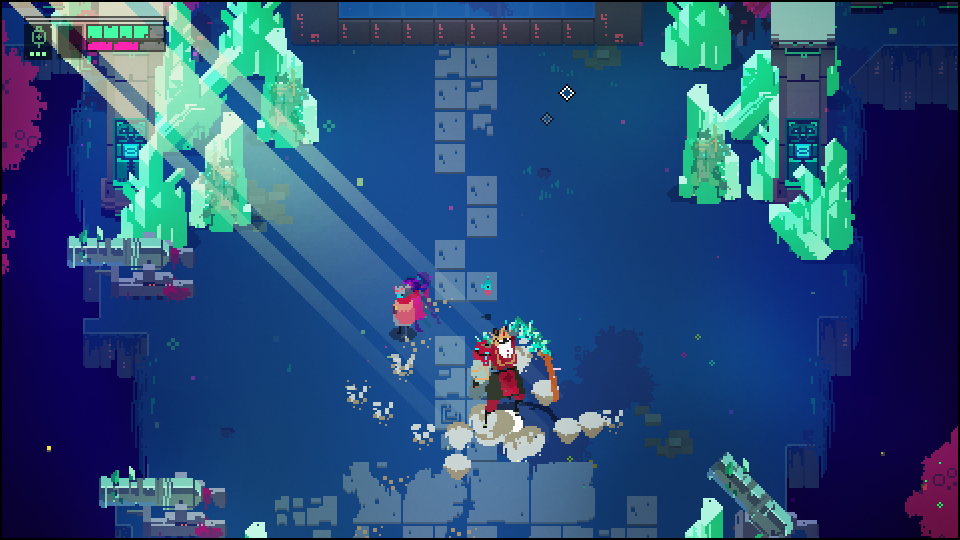hanged_man: (469, 316, 564, 413)
player: (392, 281, 411, 335)
